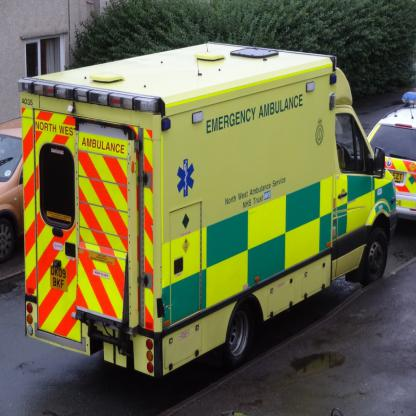Ambulance: (18, 39, 398, 380)
Car: (367, 91, 415, 220), (0, 116, 24, 264)
